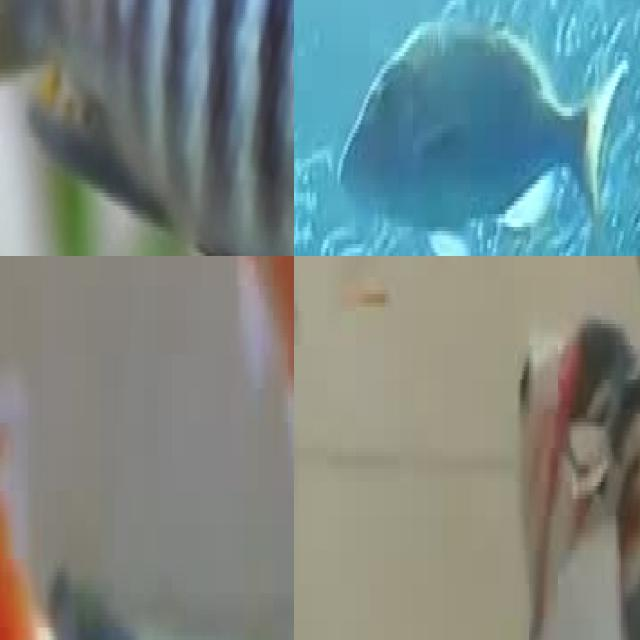fish: (0, 0, 294, 256), (0, 350, 203, 640)
